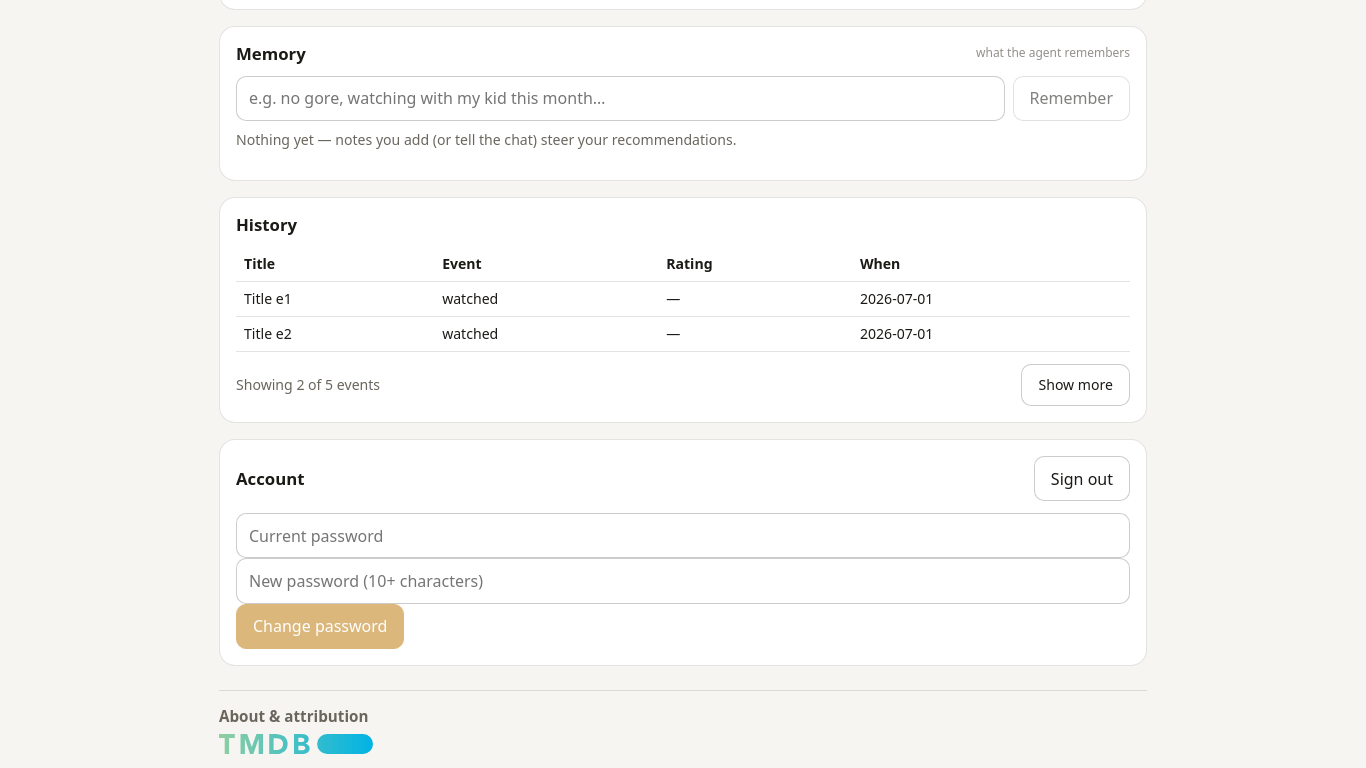
Test: Profile history pagination › shows the honest count and loads the next page on demand
(page scrolled)
Expected: the text with test id "history-count" reads "Showing 2 of 5 events", [236,375,380,394]
What coordinates should you click on to do the following:
click the button with test id "history-more"
I would click on:
 (1076, 385)
Its box is [1022,364,1130,406].
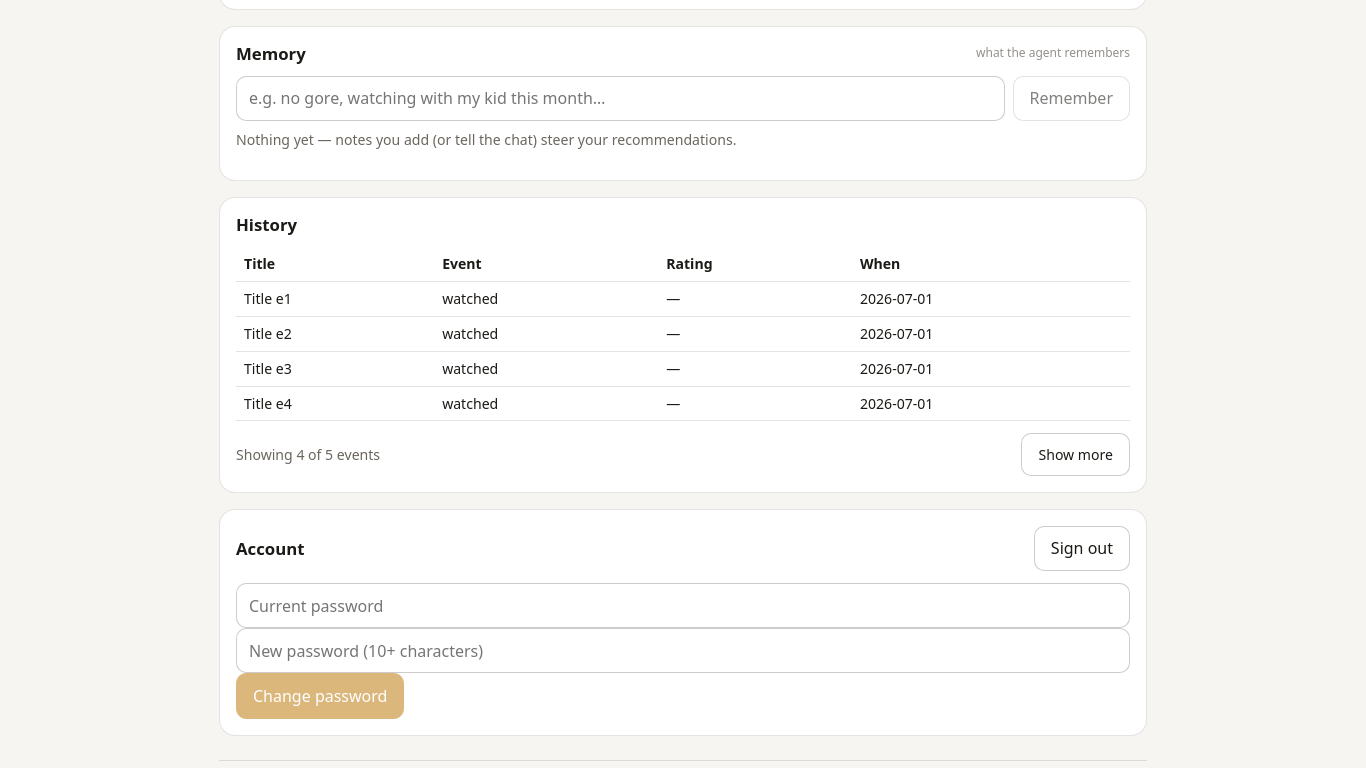
Expected: the number of rows with test id "history-row" is 4, [236,281,1130,316]; [236,316,1130,351]; [236,351,1130,386]; [236,386,1130,421]
Expected: the text with test id "history-count" reads "Showing 4 of 5 events", [236,445,380,464]
